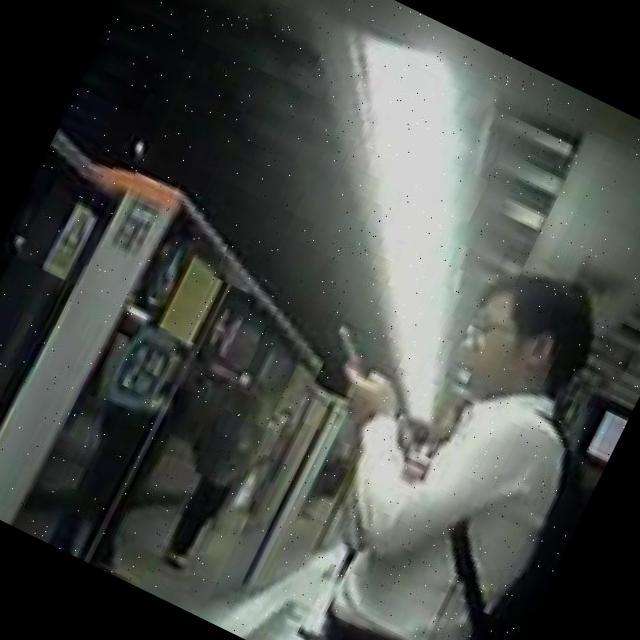person: (231, 213, 640, 640), (138, 362, 292, 582)
